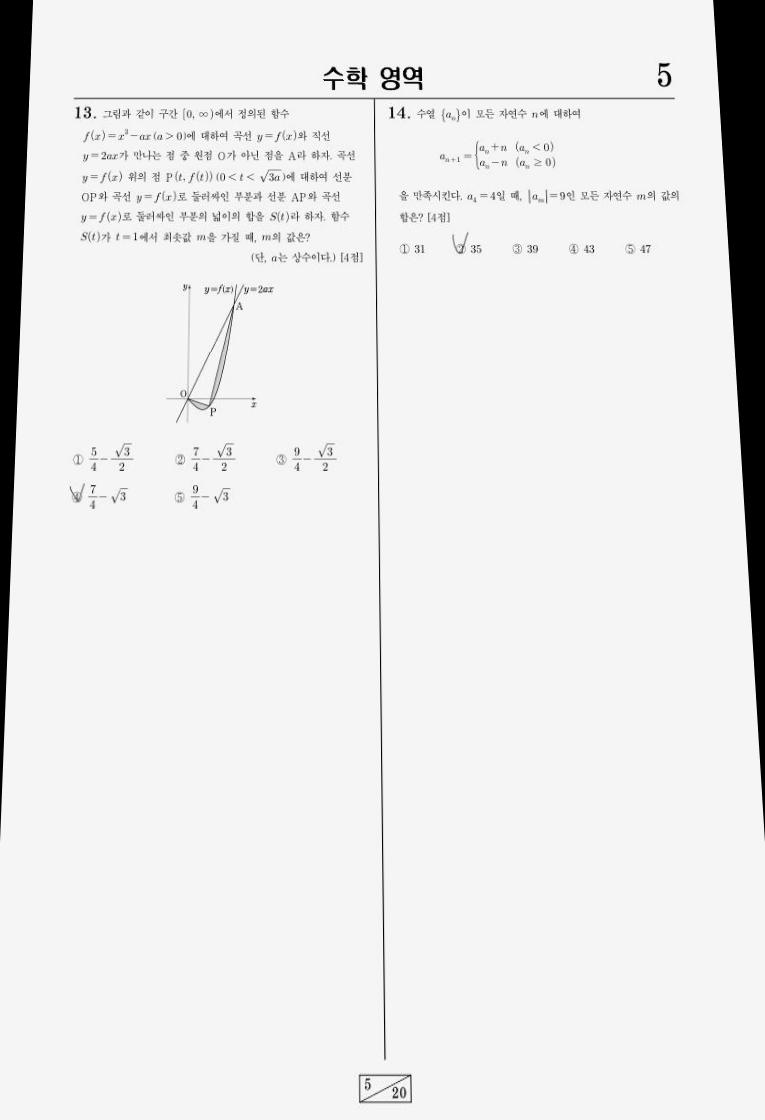question: (54, 101, 371, 520), (378, 96, 694, 269)
